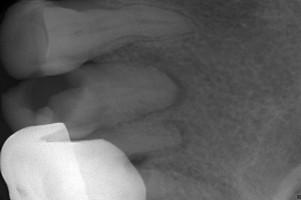Dental Caries: (154, 159, 242, 200), (128, 118, 192, 169)
Furcation Involvement: (165, 71, 186, 106)
